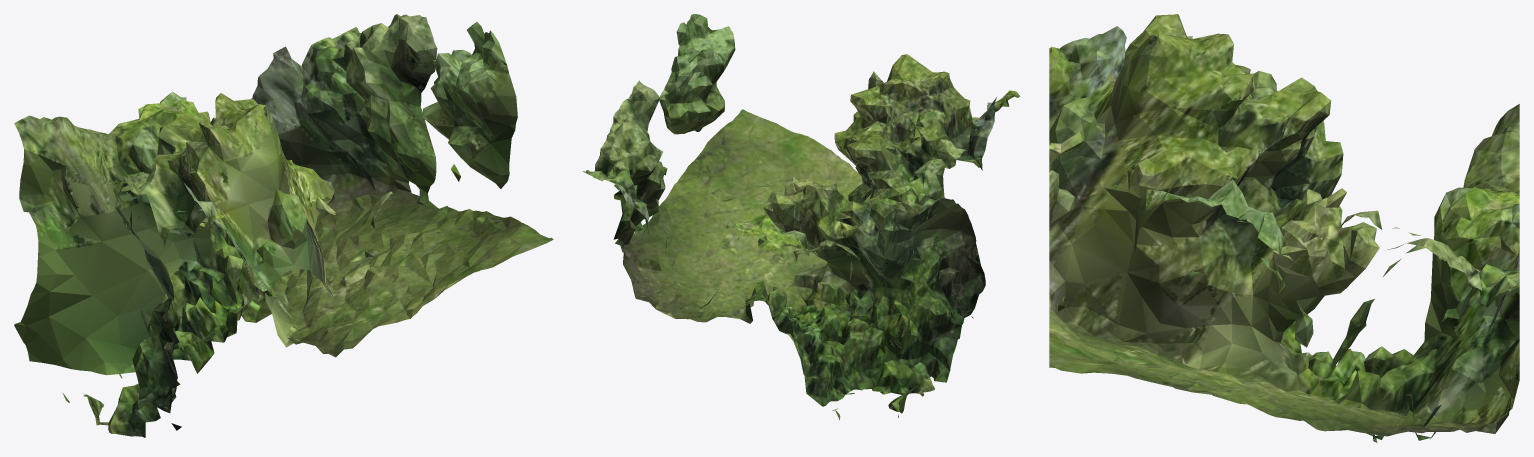
The picture shows the model from 3 angles, left to right: view 1: azimuth 30°, elevation 25°; view 2: azimuth 150°, elevation 25°; view 3: azimuth 270°, elevation 25°; orthographic projection. The views are drawn at different scales.
Bounding box in the file's own units: 26.11 × 25.47 × 26.11.
Materials: 6 (6 with a texture image).
